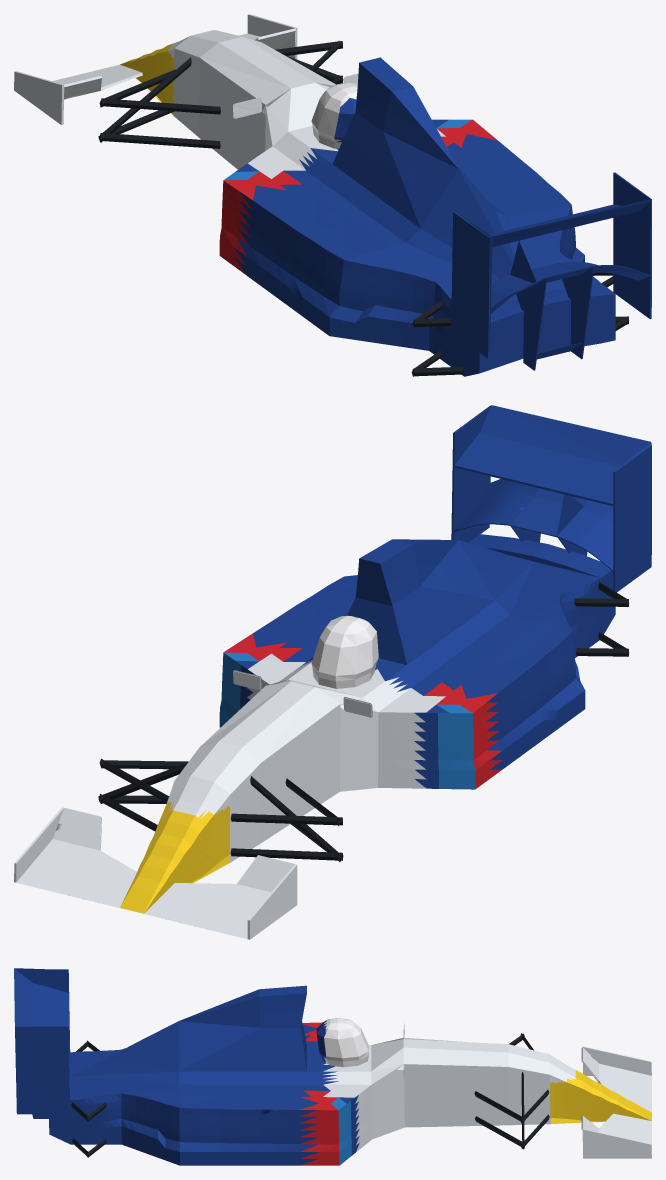
The model's file is F1_94_chassis_geometry.glb.
The picture shows the model from 3 angles, top to bottom: view 1: azimuth 30°, elevation 25°; view 2: azimuth 150°, elevation 25°; view 3: azimuth 270°, elevation 25°; orthographic projection. The views are drawn at different scales.
Parts seen in each view (by area): view 1: GEO_CHASSIS, GEO_AERO_REAR_WING, GEO_AERO_FRONT_WING, GEO_SUSPENSION_FL, GEO_DRIVER_HELMET, GEO_NOSE, GEO_SUSPENSION_RL, GEO_SUSPENSION_FR; view 2: GEO_CHASSIS, GEO_AERO_REAR_WING, GEO_AERO_FRONT_WING, GEO_NOSE, GEO_DRIVER_HELMET, GEO_SUSPENSION_FL, GEO_SUSPENSION_FR, GEO_SUSPENSION_RL; view 3: GEO_CHASSIS, GEO_AERO_REAR_WING, GEO_AERO_FRONT_WING, GEO_NOSE, GEO_DRIVER_HELMET, GEO_SUSPENSION_FR, GEO_SUSPENSION_RR.
Boxes of the visible parts, x1=… form: GEO_CHASSIS: x1=173, y1=30, x2=615, y2=376; GEO_AERO_REAR_WING: x1=451, y1=172, x2=651, y2=370; GEO_AERO_FRONT_WING: x1=14, y1=14, x2=297, y2=124; GEO_SUSPENSION_FL: x1=98, y1=57, x2=220, y2=148; GEO_DRIVER_HELMET: x1=311, y1=82, x2=357, y2=148; GEO_NOSE: x1=120, y1=36, x2=189, y2=115; GEO_SUSPENSION_RL: x1=411, y1=300, x2=463, y2=376; GEO_SUSPENSION_FR: x1=275, y1=40, x2=343, y2=84; GEO_CHASSIS: x1=174, y1=534, x2=615, y2=862; GEO_AERO_REAR_WING: x1=451, y1=405, x2=651, y2=592; GEO_AERO_FRONT_WING: x1=14, y1=807, x2=297, y2=939; GEO_NOSE: x1=120, y1=776, x2=230, y2=913; GEO_DRIVER_HELMET: x1=311, y1=615, x2=378, y2=688; GEO_SUSPENSION_FL: x1=230, y1=776, x2=343, y2=861; GEO_SUSPENSION_FR: x1=98, y1=758, x2=188, y2=831; GEO_SUSPENSION_RL: x1=574, y1=582, x2=629, y2=656; GEO_CHASSIS: x1=49, y1=985, x2=550, y2=1165; GEO_AERO_REAR_WING: x1=14, y1=968, x2=70, y2=1118; GEO_AERO_FRONT_WING: x1=581, y1=1046, x2=651, y2=1158; GEO_NOSE: x1=549, y1=1054, x2=651, y2=1123; GEO_DRIVER_HELMET: x1=316, y1=1018, x2=368, y2=1067; GEO_SUSPENSION_FR: x1=474, y1=1072, x2=549, y2=1149; GEO_SUSPENSION_RR: x1=71, y1=1102, x2=106, y2=1157.
Size of the model in its own units: 1.44 by 0.9711 by 4.28.
